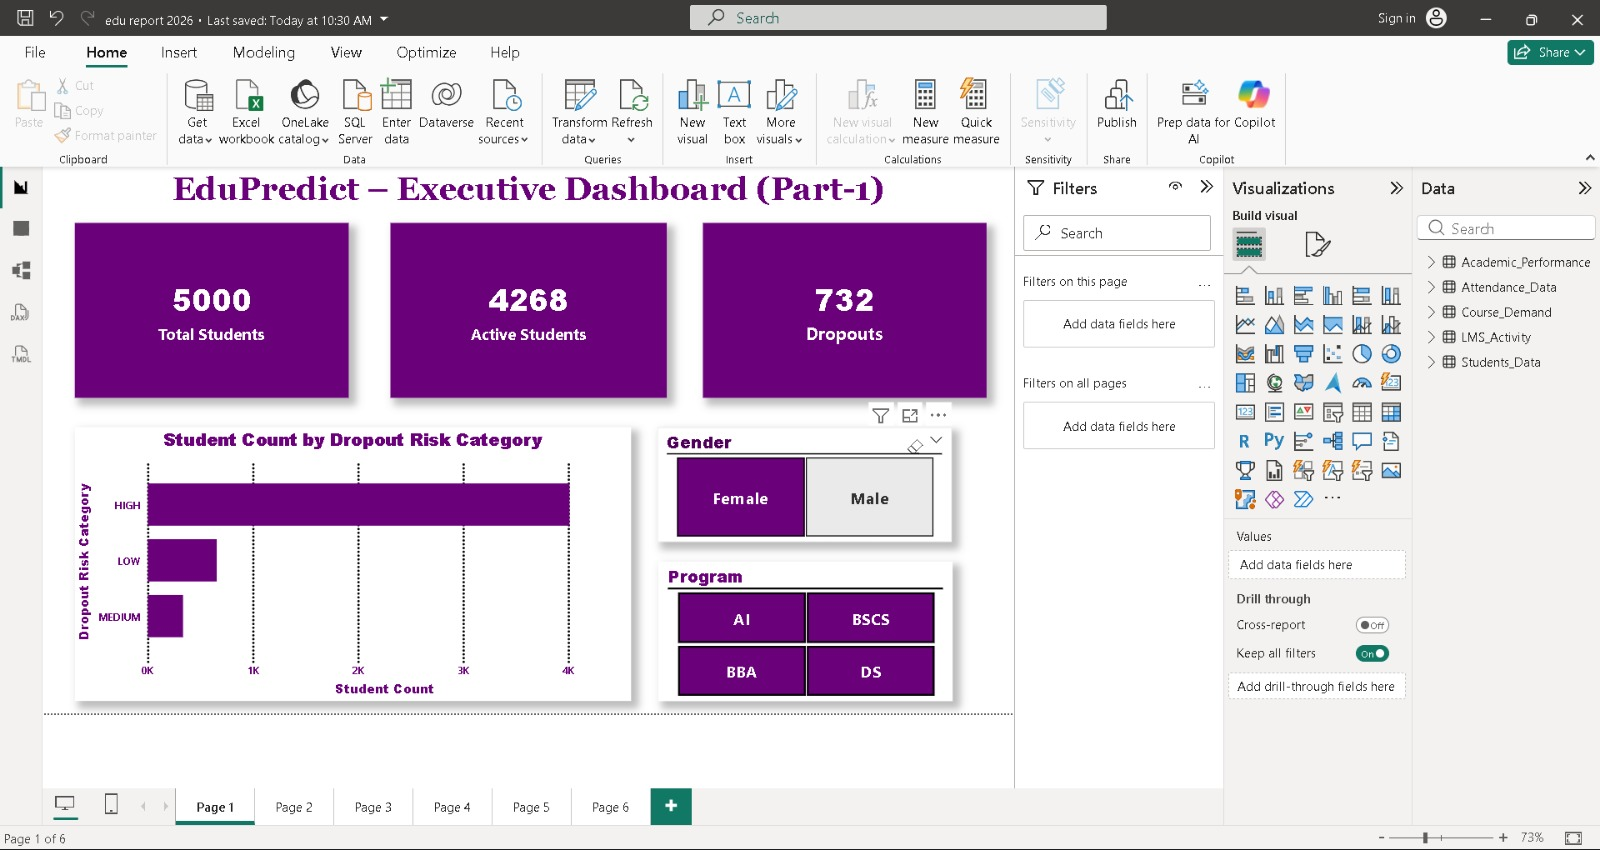

This screenshot's page, from the dashboard's own definition file:
{"tool":"powerbi","page":{"name":"Page 1","canvas":[1280,720],"ordinal":0},"visuals":[{"type":"textbox","box":[0,0,1280.3,91.9],"z":0},{"type":"card","fields":{"Values":["Students_Data.Total Students"]},"box":[42.5,74.1,360.9,230.5],"z":1000},{"type":"card","fields":{"Values":["Students_Data.Active Students"]},"box":[458.3,74.1,363.6,230.5],"z":2000},{"type":"card","fields":{"Values":["Students_Data.Dropouts"]},"box":[870,74.1,373.2,230.5],"z":3000},{"type":"slicer","fields":{"Values":["Students_Data.Program"]},"box":[809.6,520.1,388.3,183.9],"z":4000},{"type":"clusteredBarChart","fields":{"Category":["Students_Data.Dropout Risk Category"],"Y":["Students_Data.Student Count"]},"box":[42.5,343.1,732.8,360.9],"z":5000},{"type":"slicer","fields":{"Values":["Students_Data.Gender"]},"box":[809.6,343.1,388.3,150.9],"z":6000}]}

Visuals, with their boxes on the page's 1280x720 design canvas (x1, y1, x2, y2). These are canvas units, not pixel positions in the 1600x850 screenshot, which may show the page scaled, cropped or inside an application window:
textbox: crop(0, 0, 1280, 92)
card - Students_Data.Total Students: crop(42, 74, 403, 305)
card - Students_Data.Active Students: crop(458, 74, 822, 305)
card - Students_Data.Dropouts: crop(870, 74, 1243, 305)
slicer - Students_Data.Program: crop(810, 520, 1198, 704)
clusteredBarChart - Students_Data.Dropout Risk Category x Students_Data.Student Count: crop(42, 343, 775, 704)
slicer - Students_Data.Gender: crop(810, 343, 1198, 494)
